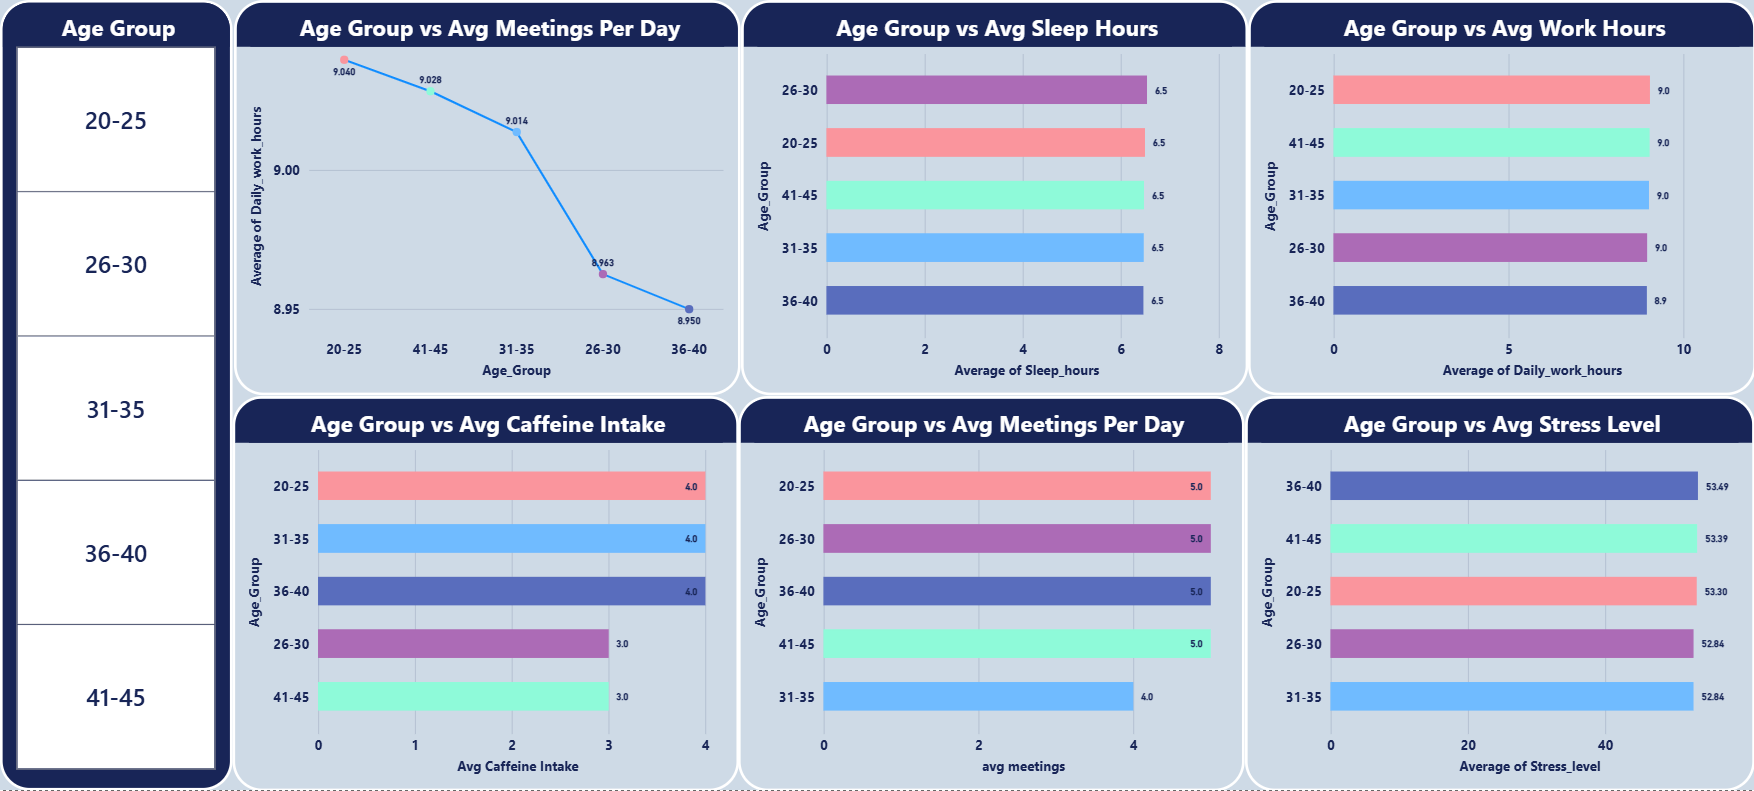

This screenshot's page, from the dashboard's own definition file:
{"tool":"powerbi","page":{"name":"Age Group Analysis","canvas":[1776,800],"ordinal":1},"visuals":[{"type":"clusteredBarChart","title":"Age Group vs Avg Work Hours","fields":{"Category":["Final.Age_Group"],"Y":["Avg(Final.Daily_work_hours)"]},"box":[1262.9,0,514.3,400],"z":0},{"type":"advancedSlicerVisual","title":"Age Group","fields":{"Values":["Final.Age_Group"]},"box":[0,0,235,800],"z":1000},{"type":"clusteredBarChart","title":"Age Group vs Avg Sleep Hours","fields":{"Category":["Final.Age_Group"],"Y":["Avg(Final.Sleep_hours)"]},"box":[750,0,513.3,400],"z":2000},{"type":"clusteredBarChart","title":"Age Group vs Avg Stress Level","fields":{"Category":["Final.Age_Group"],"Y":["Avg(Final.Stress_level)"]},"box":[1260,400,515.7,400],"z":3000},{"type":"clusteredBarChart","title":"Age Group vs Avg Caffeine Intake","fields":{"Category":["Final.Age_Group"],"Y":["Final.Avg Caffeine Intake"]},"box":[235,400,512.5,400],"z":4000},{"type":"clusteredBarChart","title":"Age Group vs Avg Meetings Per Day","fields":{"Category":["Final.Age_Group"],"Y":["Final.avg meetings"]},"box":[747.1,400,512.9,400],"z":5000},{"type":"lineChart","title":"Age Group vs Avg Meetings Per Day","fields":{"Category":["Final.Age_Group"],"Y":["Avg(Final.Daily_work_hours)"]},"box":[237.1,0,512.9,400],"z":6000}]}

Visuals, with their boxes in screenshot pixels (x1, y1, x2, y2), scaled from the page's 1776x800 canvas onto the 1754x791 screenshot:
"Age Group vs Avg Work Hours" clusteredBarChart: rect(1247, 0, 1753, 396)
"Age Group" advancedSlicerVisual: rect(0, 0, 232, 790)
"Age Group vs Avg Sleep Hours" clusteredBarChart: rect(741, 0, 1248, 396)
"Age Group vs Avg Stress Level" clusteredBarChart: rect(1244, 396, 1753, 790)
"Age Group vs Avg Caffeine Intake" clusteredBarChart: rect(232, 396, 738, 790)
"Age Group vs Avg Meetings Per Day" clusteredBarChart: rect(738, 396, 1244, 790)
"Age Group vs Avg Meetings Per Day" lineChart: rect(234, 0, 741, 396)
